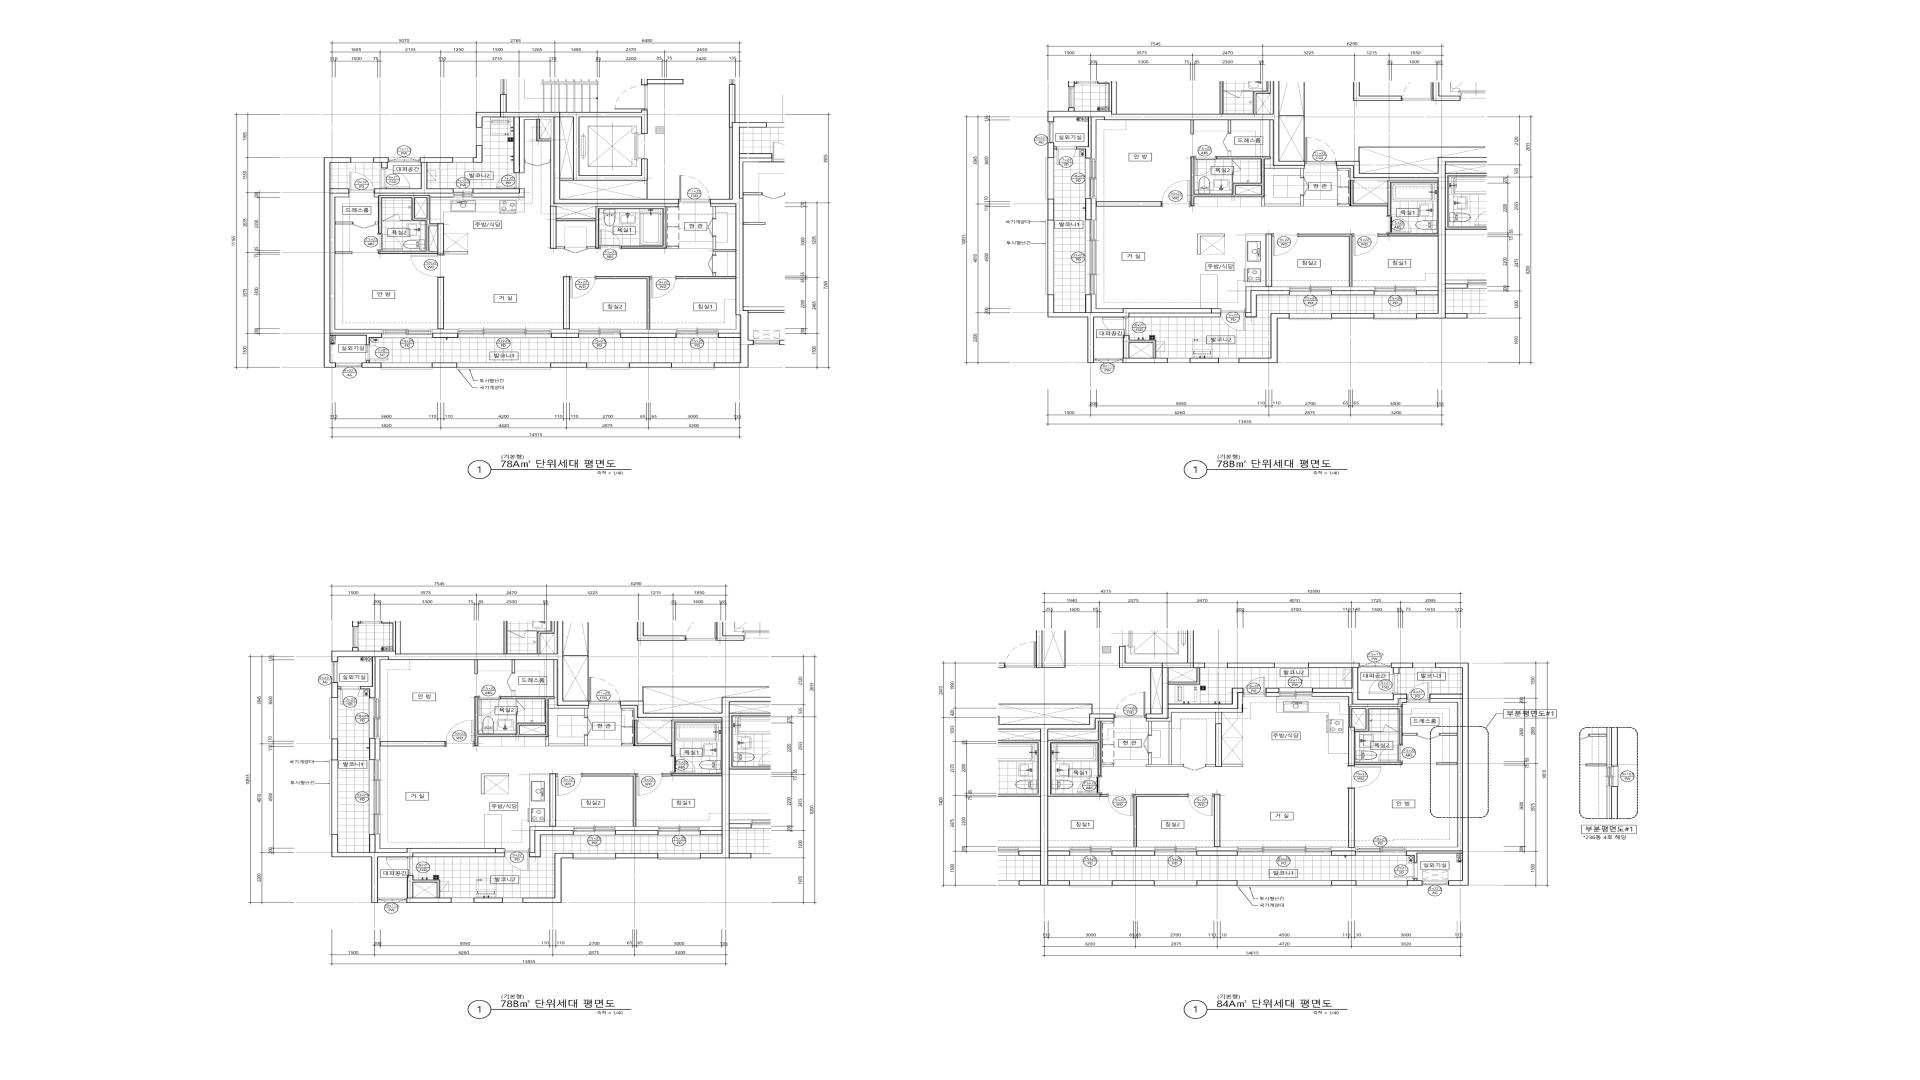door: (679, 175, 711, 202), (615, 84, 647, 109), (1305, 137, 1336, 164), (1114, 692, 1146, 717), (410, 255, 444, 277), (1162, 181, 1191, 207), (446, 720, 475, 746), (589, 678, 620, 703), (1349, 766, 1382, 789), (1352, 233, 1379, 256), (1369, 674, 1399, 694), (570, 276, 596, 298), (348, 171, 375, 194), (1273, 233, 1299, 256), (1220, 309, 1246, 331), (1108, 794, 1134, 816), (1188, 794, 1215, 816), (381, 169, 410, 189), (504, 848, 529, 870), (650, 277, 676, 298), (636, 774, 662, 795), (556, 774, 582, 795), (386, 857, 413, 876), (1102, 318, 1129, 335), (1244, 676, 1266, 696), (1407, 683, 1429, 703), (477, 696, 500, 716), (599, 229, 621, 249), (378, 233, 402, 252), (671, 756, 695, 774), (1378, 745, 1403, 762), (1387, 216, 1411, 233), (1077, 777, 1101, 794), (1195, 157, 1216, 175), (496, 173, 520, 189), (1395, 862, 1418, 878), (367, 344, 388, 360), (525, 160, 550, 166), (352, 222, 376, 228), (1416, 733, 1440, 740), (564, 247, 587, 253), (708, 255, 716, 273), (1224, 133, 1232, 152), (1143, 735, 1151, 753), (584, 717, 592, 736), (506, 673, 514, 691), (382, 214, 400, 222), (1300, 178, 1308, 195), (708, 219, 716, 236), (1183, 765, 1207, 770), (516, 699, 525, 712), (1232, 160, 1241, 171), (1383, 725, 1399, 732)
wall: (331, 621, 589, 705), (1047, 82, 1305, 166), (676, 84, 749, 368), (476, 109, 679, 204), (1336, 157, 1445, 319), (620, 698, 729, 858), (1406, 663, 1469, 886), (520, 117, 679, 206), (1040, 713, 1114, 886), (323, 157, 381, 368), (1047, 294, 1220, 363), (331, 835, 504, 903), (1120, 646, 1244, 719), (1406, 699, 1462, 851), (1146, 692, 1244, 766), (330, 194, 381, 334), (550, 206, 666, 249), (1308, 663, 1407, 704), (475, 696, 554, 746), (1191, 157, 1271, 206), (378, 195, 443, 255), (1349, 707, 1403, 766), (375, 157, 454, 194), (1299, 233, 1353, 286), (1134, 794, 1188, 847), (582, 774, 636, 827), (596, 277, 650, 330), (522, 853, 572, 903), (1238, 314, 1290, 363), (1265, 120, 1305, 178), (549, 659, 589, 717), (1336, 166, 1437, 181), (620, 705, 721, 720), (1312, 694, 1407, 707), (406, 876, 451, 903), (1246, 290, 1290, 318), (1124, 335, 1167, 363), (529, 831, 574, 857), (1246, 286, 1290, 313), (529, 827, 574, 852), (1048, 719, 1114, 732), (1197, 233, 1225, 255), (1092, 294, 1122, 313), (481, 774, 509, 794), (376, 835, 406, 852), (1262, 195, 1304, 207), (376, 657, 388, 699), (472, 189, 525, 198), (1092, 117, 1104, 158), (546, 736, 587, 746), (713, 236, 736, 255), (717, 315, 740, 332), (1168, 669, 1197, 682), (709, 204, 736, 219), (413, 882, 436, 898), (1129, 343, 1153, 359), (1129, 314, 1220, 318), (413, 853, 504, 857), (563, 276, 570, 330), (1266, 233, 1273, 286), (1096, 202, 1162, 207), (380, 741, 446, 746), (550, 774, 556, 827), (438, 277, 444, 330), (537, 119, 551, 141), (1349, 789, 1354, 848), (375, 194, 454, 198), (1352, 709, 1366, 729), (1216, 724, 1222, 766), (1215, 794, 1220, 847), (1228, 663, 1275, 669), (472, 189, 520, 194), (1391, 663, 1414, 674), (1112, 851, 1155, 856), (620, 330, 676, 334), (620, 334, 676, 338), (1332, 290, 1374, 295), (1112, 881, 1154, 886), (616, 853, 658, 858), (1332, 314, 1374, 319), (641, 79, 683, 84), (629, 363, 671, 368), (1196, 851, 1237, 856), (1197, 881, 1237, 886), (729, 128, 732, 199), (373, 157, 389, 169), (551, 363, 587, 368), (472, 145, 483, 162), (615, 827, 658, 831), (1112, 847, 1155, 851), (615, 831, 658, 835), (1332, 286, 1374, 290), (1196, 847, 1237, 851), (361, 360, 381, 368), (473, 898, 502, 903), (1189, 357, 1218, 363), (1085, 198, 1092, 220), (1047, 142, 1056, 158), (551, 332, 579, 338), (331, 738, 338, 760), (369, 738, 376, 760), (1047, 199, 1054, 220), (331, 683, 340, 698), (433, 332, 458, 338), (1332, 851, 1356, 856), (1407, 878, 1423, 886), (1332, 881, 1356, 886), (433, 363, 456, 368), (551, 330, 579, 334), (433, 330, 458, 334), (1332, 847, 1356, 851), (1092, 198, 1096, 220), (1416, 286, 1437, 290), (700, 827, 721, 831), (376, 738, 380, 760), (1048, 847, 1069, 851), (443, 252, 468, 255), (1150, 669, 1151, 713), (1228, 120, 1232, 133), (1266, 692, 1279, 696), (1266, 688, 1279, 692), (1191, 120, 1193, 135), (475, 659, 477, 674), (621, 744, 634, 746), (1403, 733, 1416, 736), (512, 659, 514, 673), (560, 178, 574, 181), (666, 247, 679, 249), (1222, 765, 1244, 766), (587, 247, 596, 249), (556, 247, 564, 249), (1228, 152, 1232, 157), (1337, 204, 1350, 206), (1101, 765, 1114, 766), (400, 220, 411, 222), (1232, 171, 1233, 182), (516, 712, 517, 723), (512, 691, 514, 696), (1207, 765, 1216, 766), (713, 273, 716, 277), (376, 222, 378, 224), (1370, 732, 1383, 732)
window: (1237, 847, 1332, 856), (369, 760, 380, 835), (1085, 220, 1096, 294), (458, 330, 551, 338), (1237, 881, 1332, 887), (456, 363, 551, 369), (1046, 220, 1054, 295), (330, 760, 338, 835), (1356, 847, 1406, 856), (369, 698, 380, 738), (1085, 158, 1096, 198), (381, 330, 433, 338), (1374, 286, 1416, 295), (1290, 286, 1332, 295), (1069, 847, 1112, 856), (1155, 847, 1196, 856), (1356, 881, 1407, 887), (381, 363, 433, 369), (676, 330, 719, 338), (658, 827, 700, 835), (579, 330, 620, 338), (1046, 158, 1054, 199), (574, 827, 615, 835), (330, 698, 338, 738), (1154, 881, 1197, 887), (572, 853, 616, 860), (671, 363, 715, 369), (1374, 314, 1416, 320), (1290, 314, 1332, 320), (1069, 881, 1112, 887), (658, 853, 700, 860), (587, 363, 629, 369), (1279, 688, 1312, 696), (378, 898, 407, 905), (1275, 663, 1308, 669), (454, 189, 472, 198), (388, 157, 419, 162), (1360, 662, 1391, 667), (1095, 359, 1124, 364), (335, 363, 361, 368), (331, 662, 338, 683), (1047, 123, 1054, 142), (351, 157, 373, 162), (1167, 357, 1189, 363), (451, 898, 473, 903), (476, 128, 483, 145), (452, 157, 472, 162), (1218, 357, 1238, 363), (502, 898, 522, 903), (1423, 881, 1448, 885), (1205, 663, 1228, 667), (1414, 663, 1435, 667)
